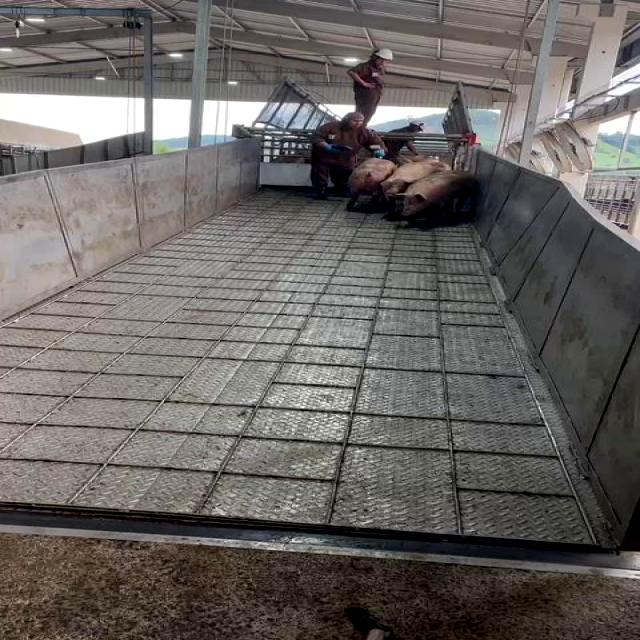pig: (401, 171, 477, 221), (401, 171, 477, 218), (380, 162, 438, 212), (348, 158, 396, 208)
